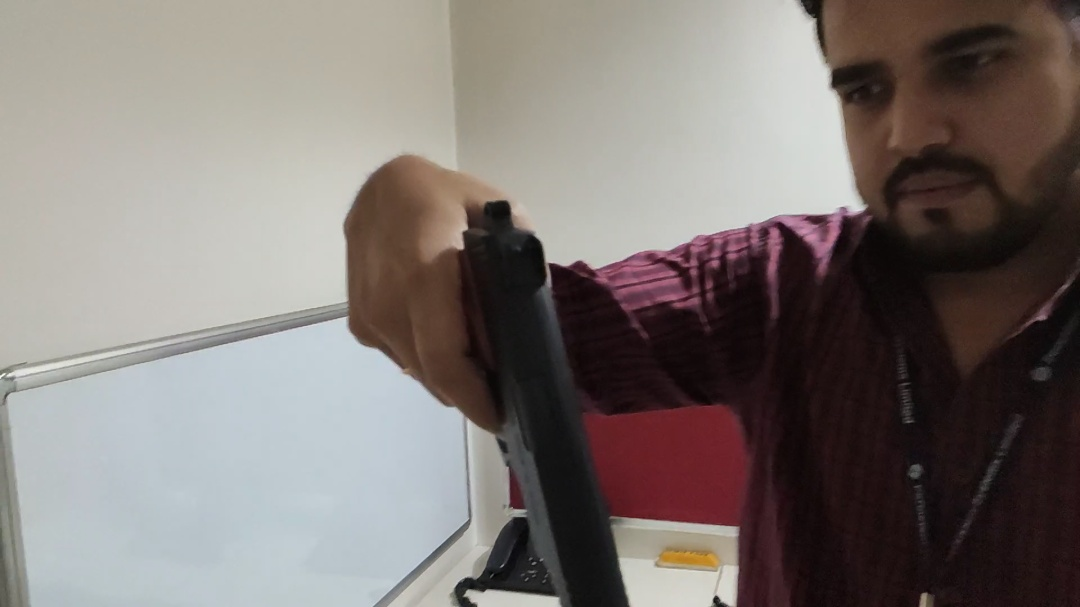gun: (421, 200, 650, 606)
